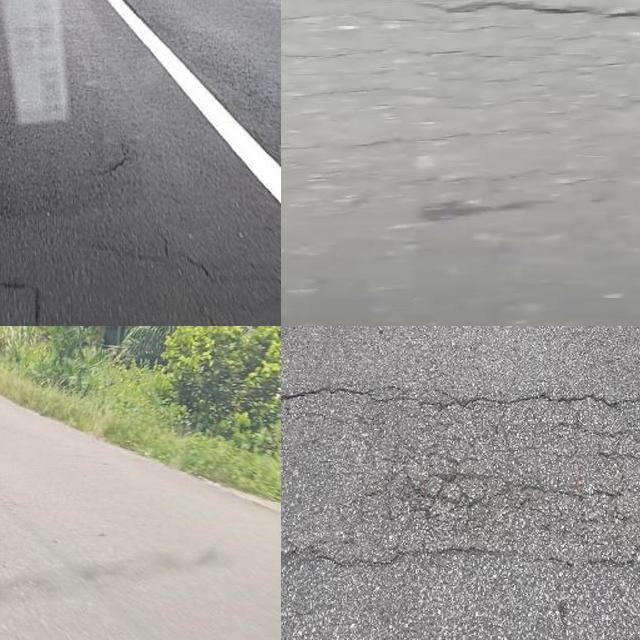Melintang: (281, 373, 640, 429), (281, 535, 640, 574), (281, 0, 640, 27)
